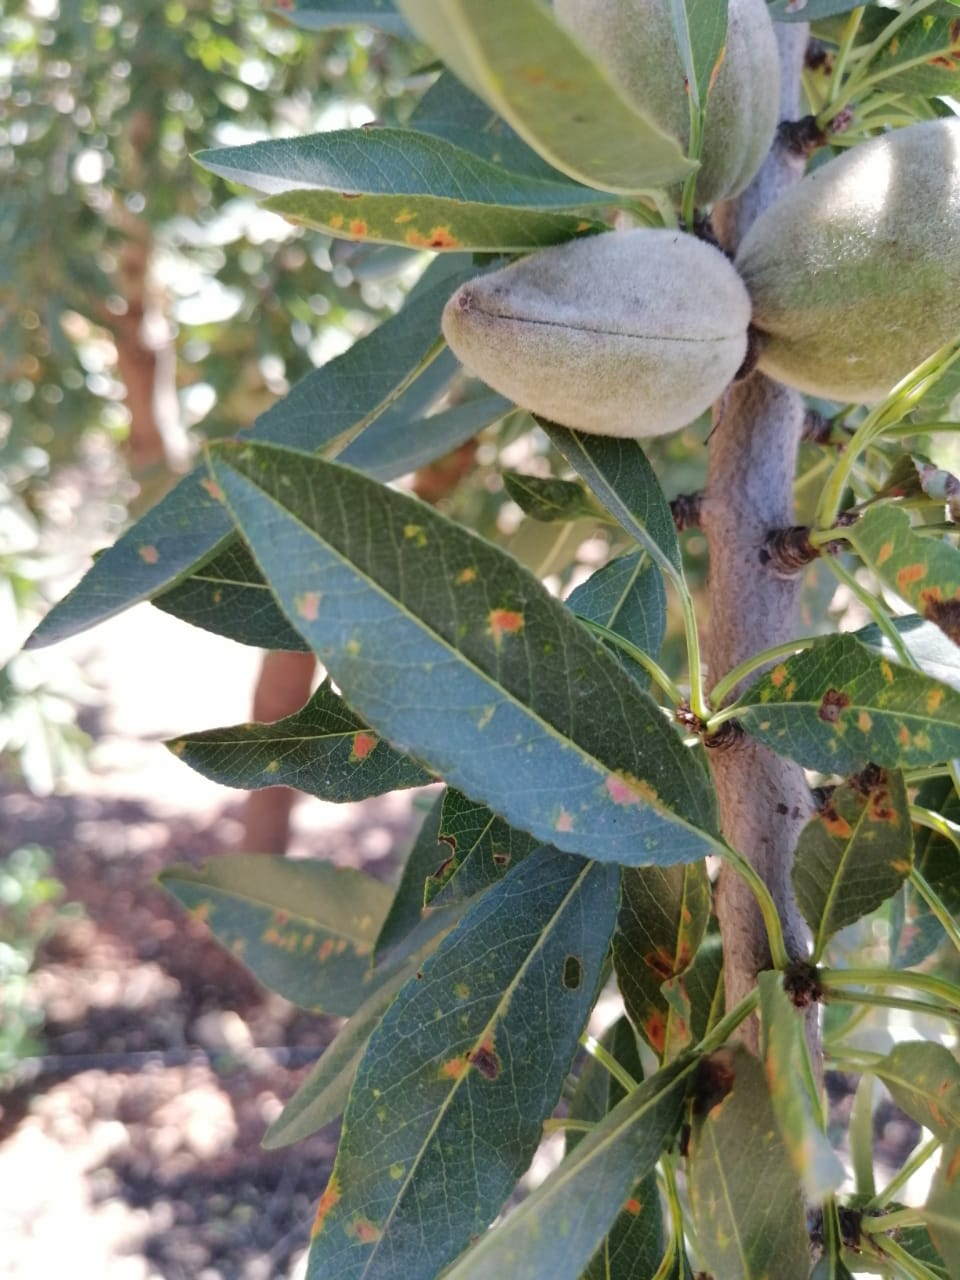polystigma: (203, 437, 738, 875), (307, 844, 626, 1280), (733, 629, 960, 779), (253, 181, 594, 253), (784, 764, 919, 941)
